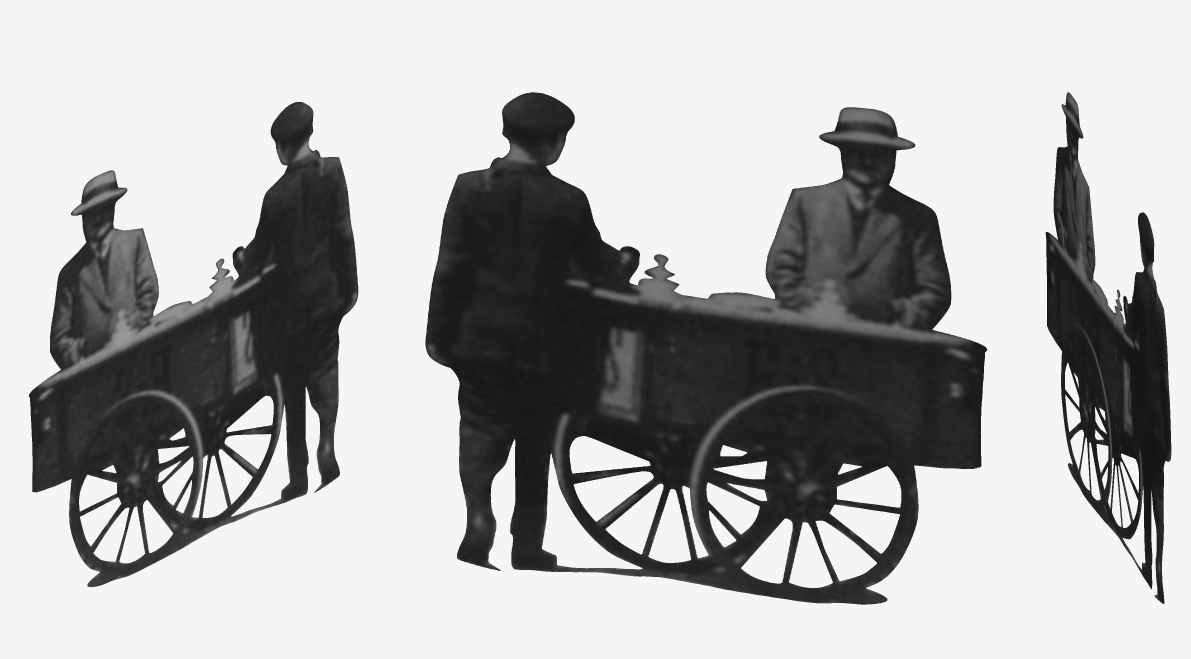
File: Old_Eis.FBX
3 renders of one model, left to right at view 1: azimuth 30°, elevation 25°; view 2: azimuth 150°, elevation 25°; view 3: azimuth 270°, elevation 25°, orthographic. The views are drawn at different scales.
Parts seen in each view (by area): view 1: EIS; view 2: EIS; view 3: EIS.
Part boxes in pixels (left/top/right/bottom): EIS: left=29, top=101, right=358, bottom=586; EIS: left=425, top=92, right=987, bottom=604; EIS: left=1045, top=92, right=1171, bottom=603.
Size of the model in its own units: 192 by 200 by 56.79.
1 material, 1 textured.
